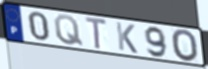0: (27, 11, 52, 42)
9: (143, 26, 169, 59)
K: (114, 21, 139, 55)
O: (171, 28, 201, 64)
Q: (53, 14, 85, 48)
T: (84, 15, 109, 51)
